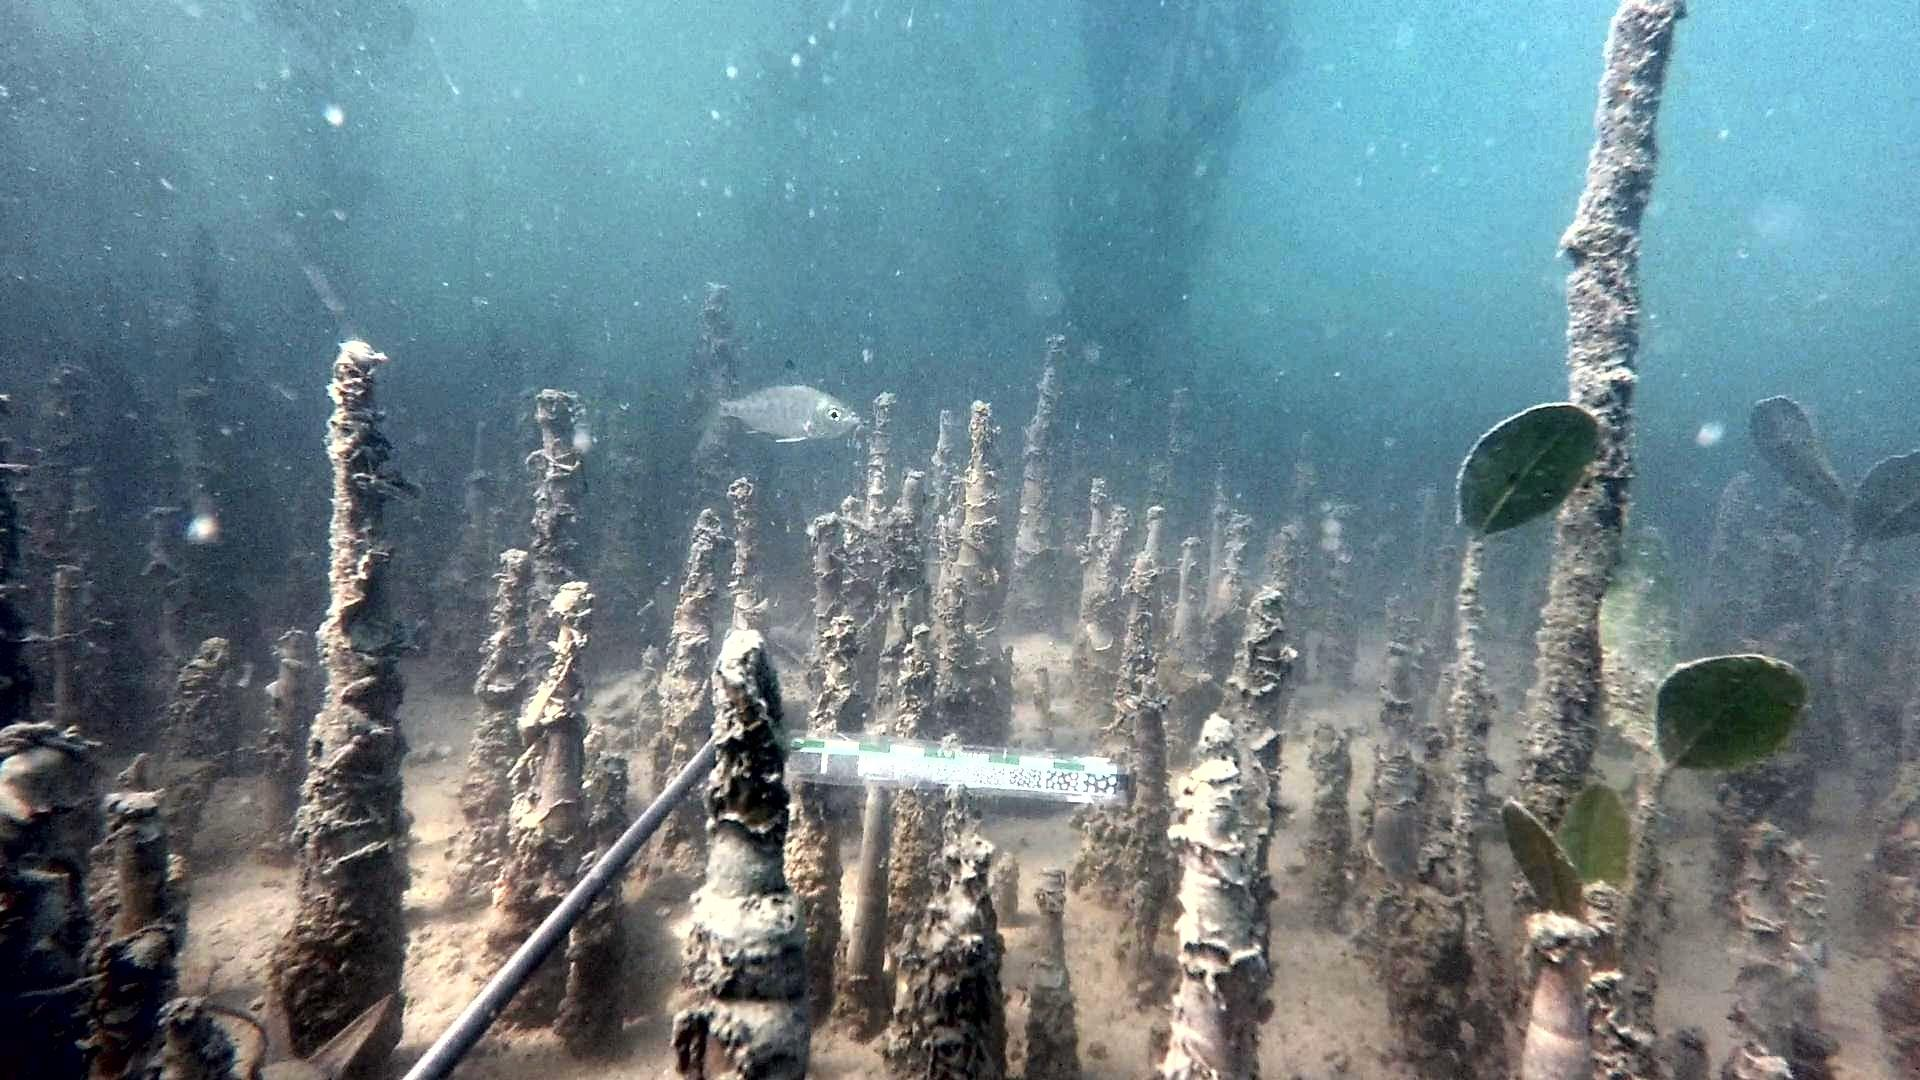gerres: (694, 359, 865, 444)
